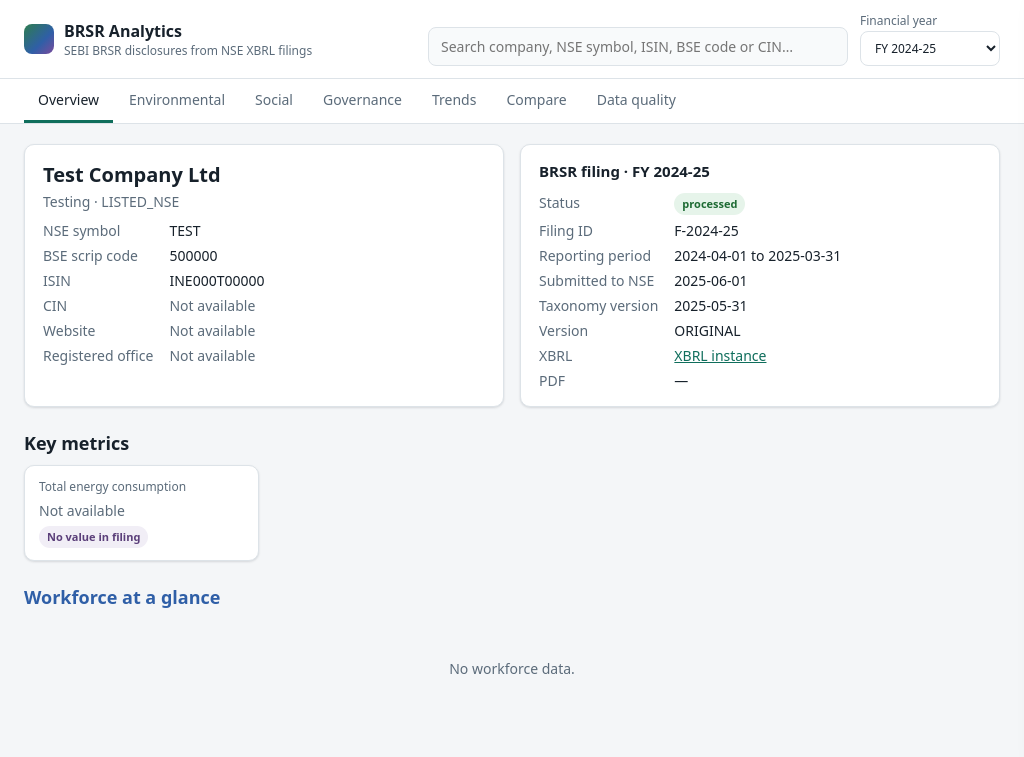
Scenario: routing › navigates between tabs and supports back and forward
expect the heading "Test Company Ltd" is shown: met, box [43,161,221,188]
Click the link "Environmental".
click(177, 100)  # box [129,90,225,109]
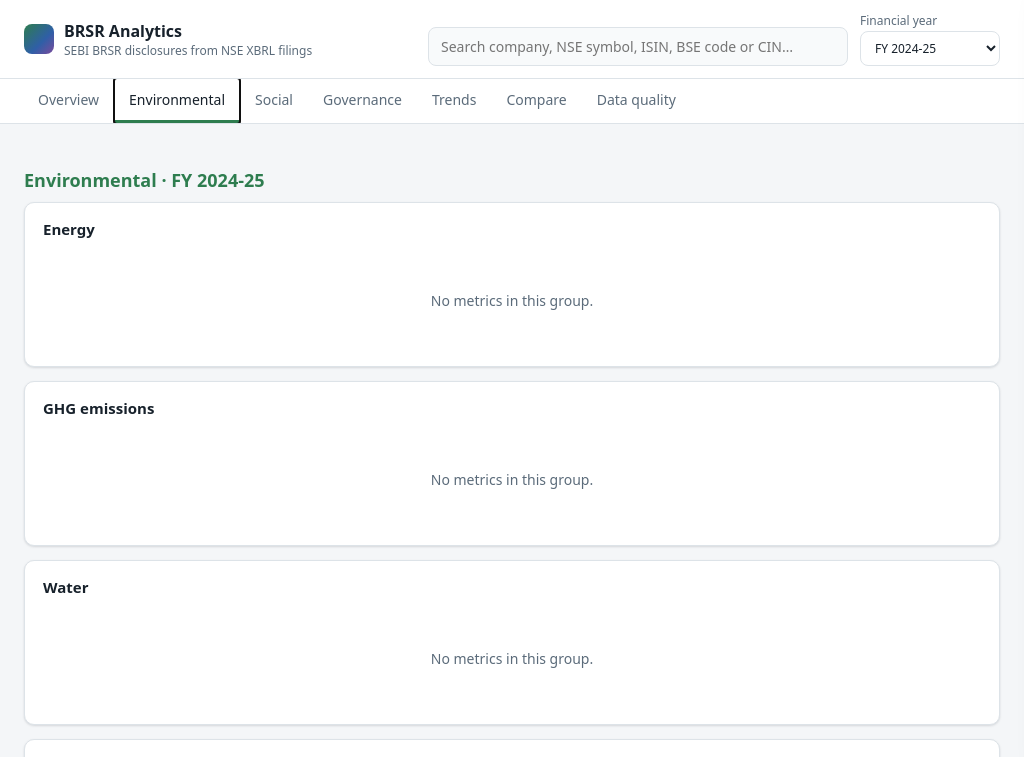
expect the heading "Environmental · FY 2024-25" is shown: met, box [24,168,265,192]
